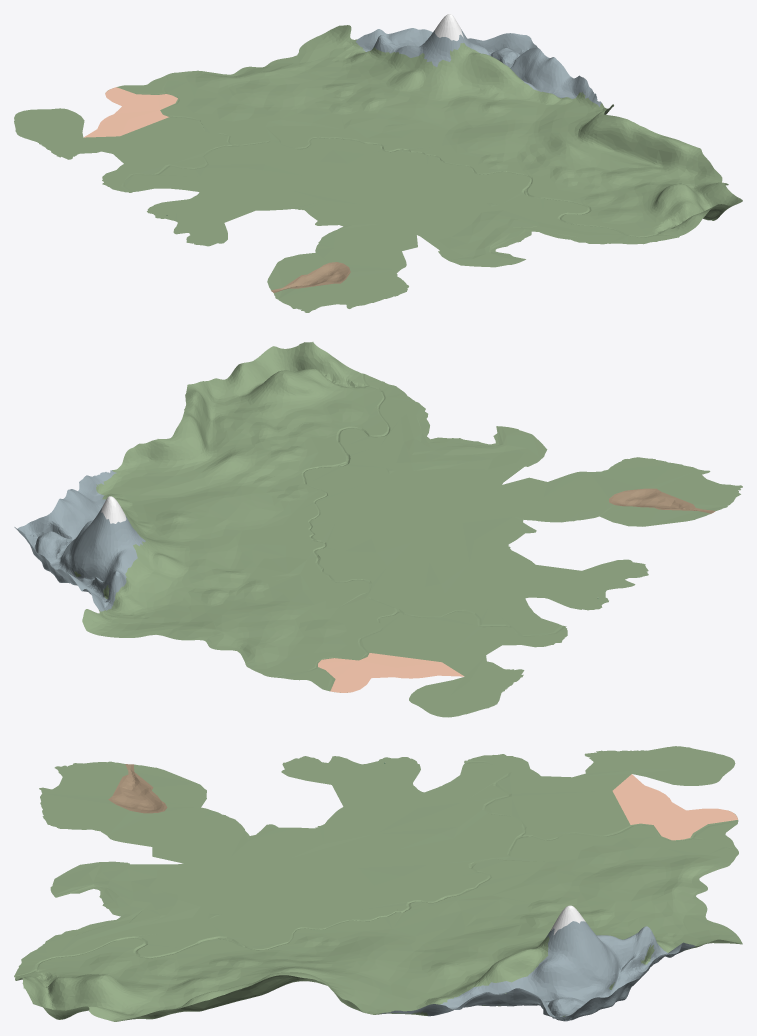
Rendered from Terrain.fbx.
The picture shows the model from 3 angles, top to bottom: view 1: azimuth 30°, elevation 25°; view 2: azimuth 150°, elevation 25°; view 3: azimuth 270°, elevation 25°; orthographic projection. The views are drawn at different scales.
Parts seen in each view (by area): view 1: TERRAIN; view 2: TERRAIN; view 3: TERRAIN.
Part boxes in pixels (left/top/right/bottom): TERRAIN: left=14, top=14, right=742, bottom=312; TERRAIN: left=14, top=342, right=742, bottom=717; TERRAIN: left=14, top=746, right=742, bottom=1021.
Size of the model in its own units: 2529 by 334 by 2725.
